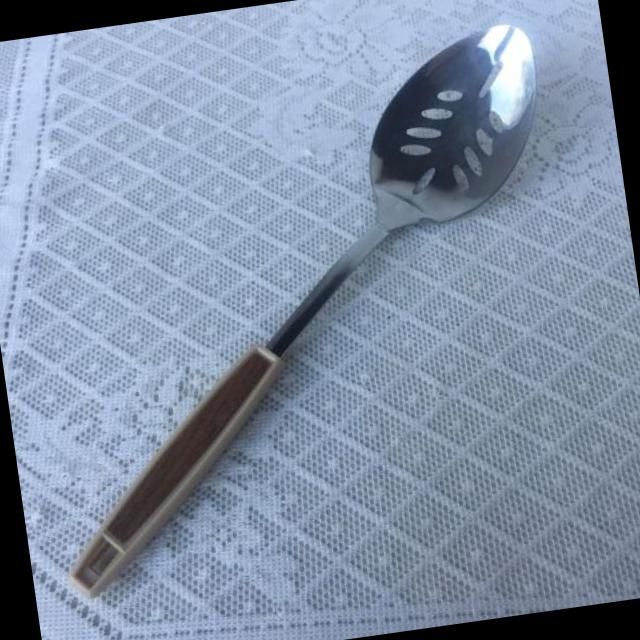spoon: (4, 12, 608, 608)
